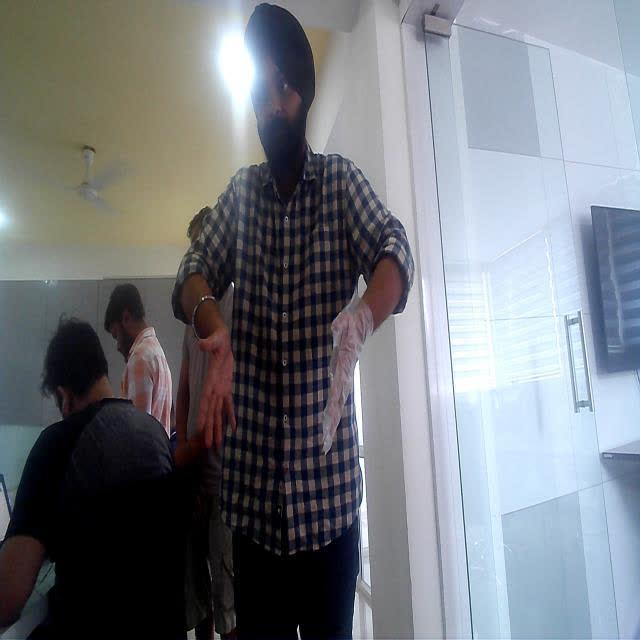with_gloves: (316, 286, 376, 458)
without_gloves: (195, 302, 250, 446)
